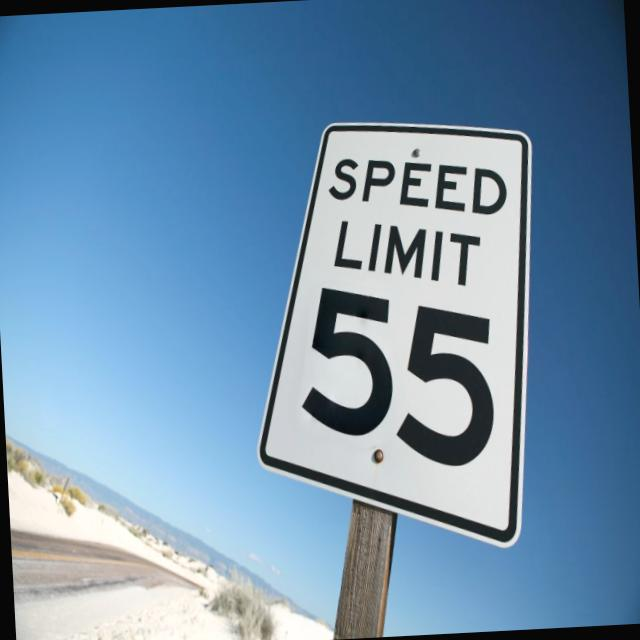Speed Limit Signs: (238, 107, 555, 564)
